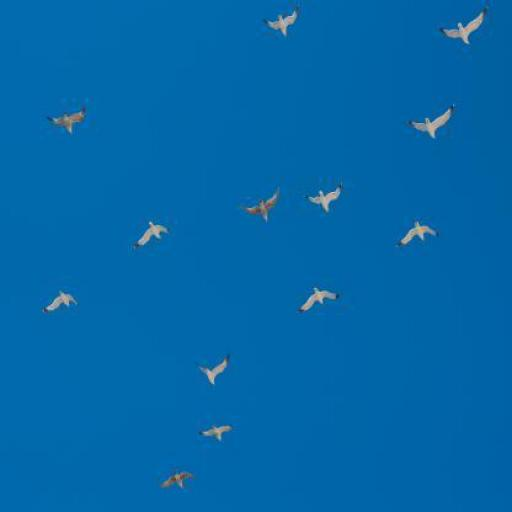bird: (441, 9, 485, 45), (408, 104, 453, 139), (242, 187, 279, 222), (305, 181, 342, 212), (396, 221, 438, 246), (47, 108, 85, 135), (298, 287, 338, 312), (196, 354, 228, 384), (264, 7, 298, 35), (134, 221, 169, 248), (43, 290, 78, 312), (159, 471, 194, 490), (198, 425, 232, 441)
